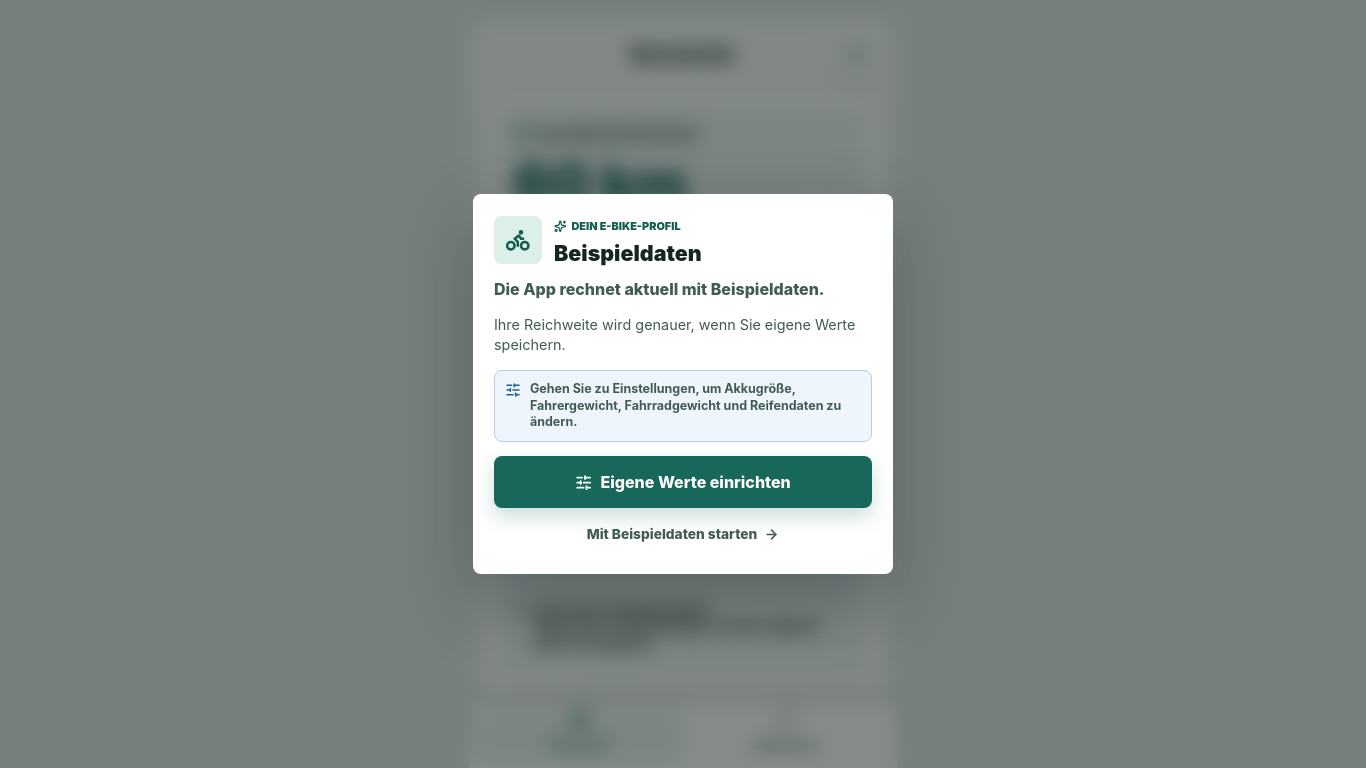
Test case: App › zeigt bei minimaler Unterstuetzung unbegrenzte Akku-Reichweite
Click the button "Mit Beispieldaten starten": [683, 534] box [494,515,872,553]
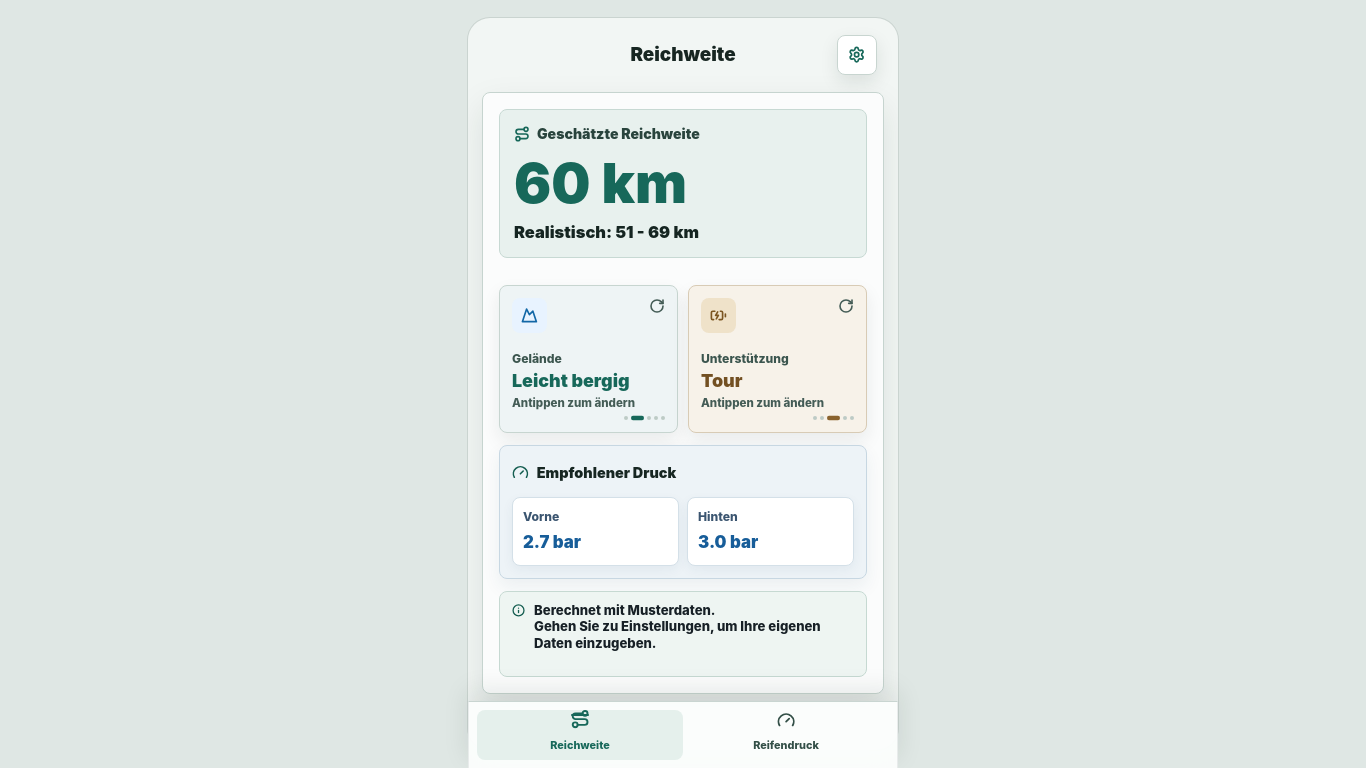
Click the button with aria-label "Unterstützung: Tour": [778, 359] box [688,285,867,433]
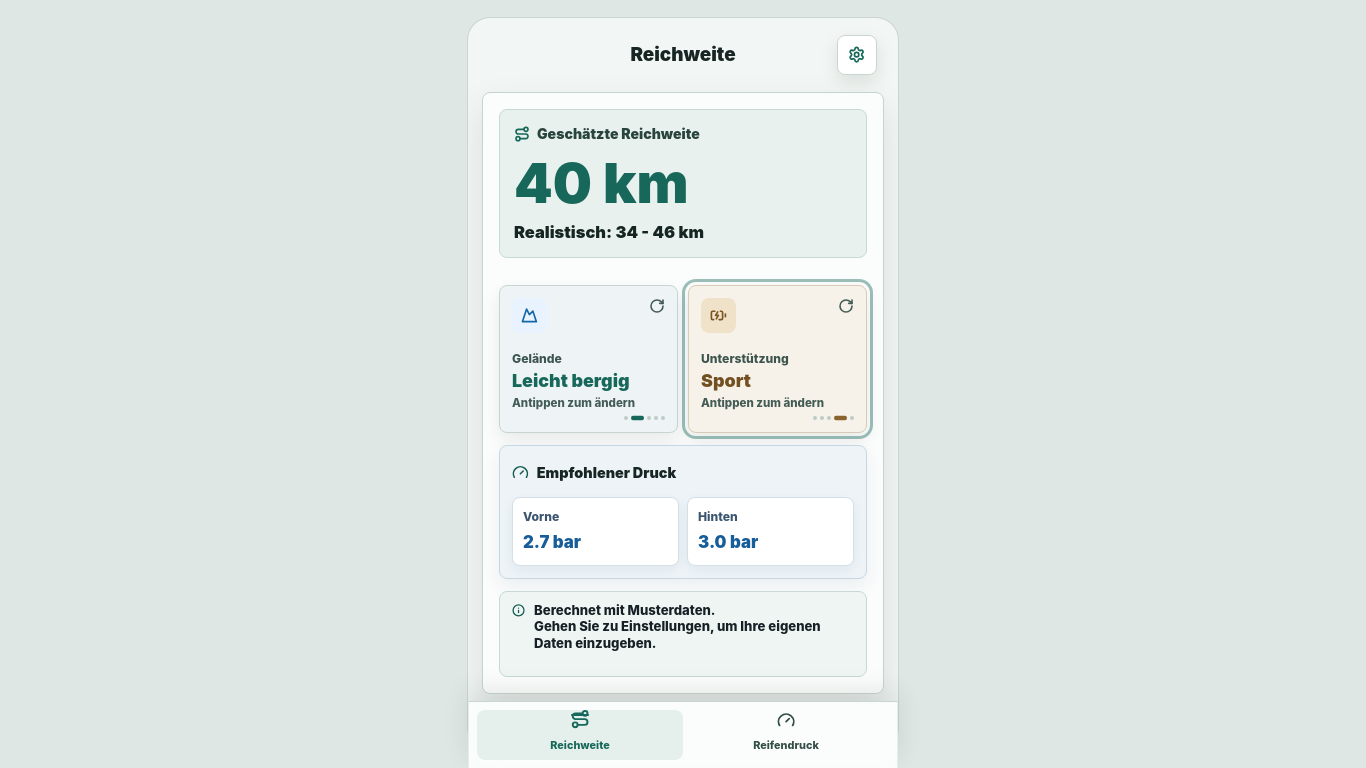
Click the button named "Unterstützung: Tour": [778, 359] box [688,285,867,433]
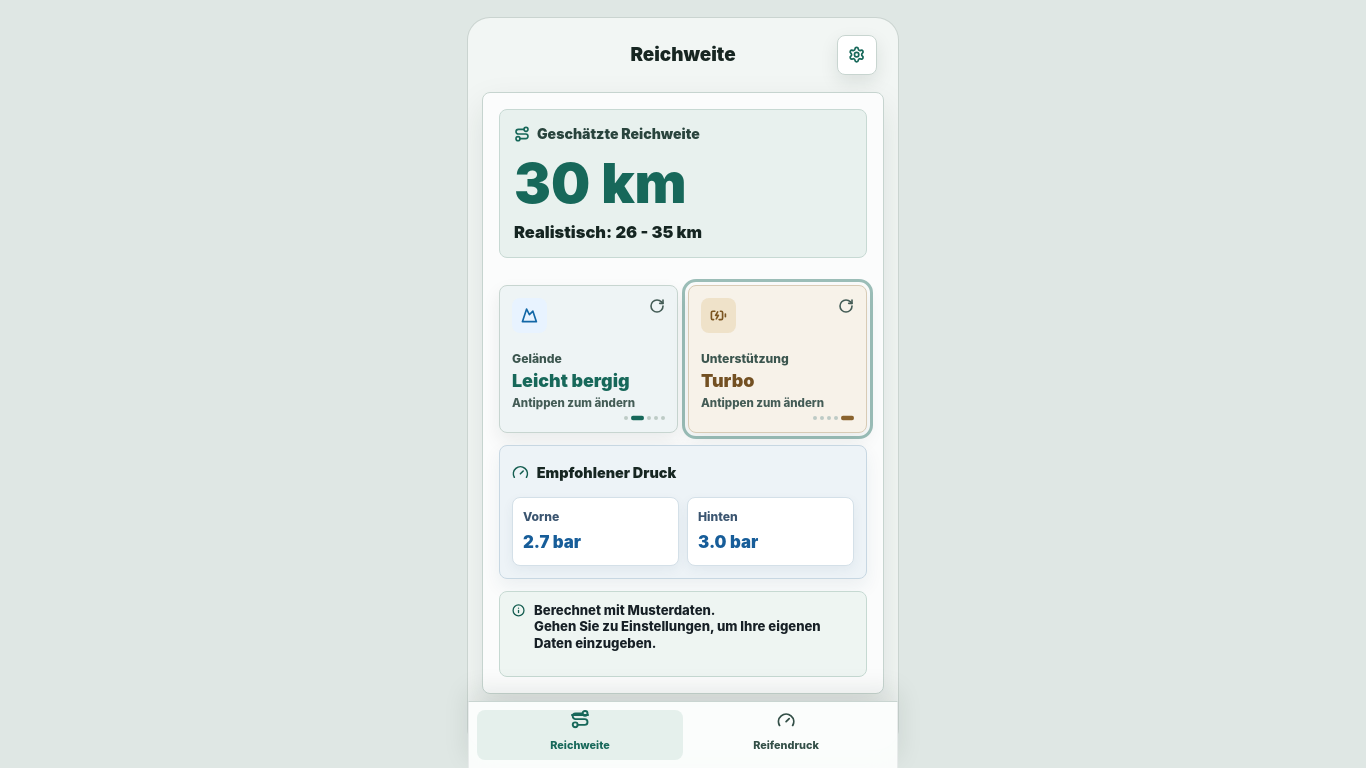
Click the button named "Unterstützung: Tour": [778, 359] box [688,285,867,433]
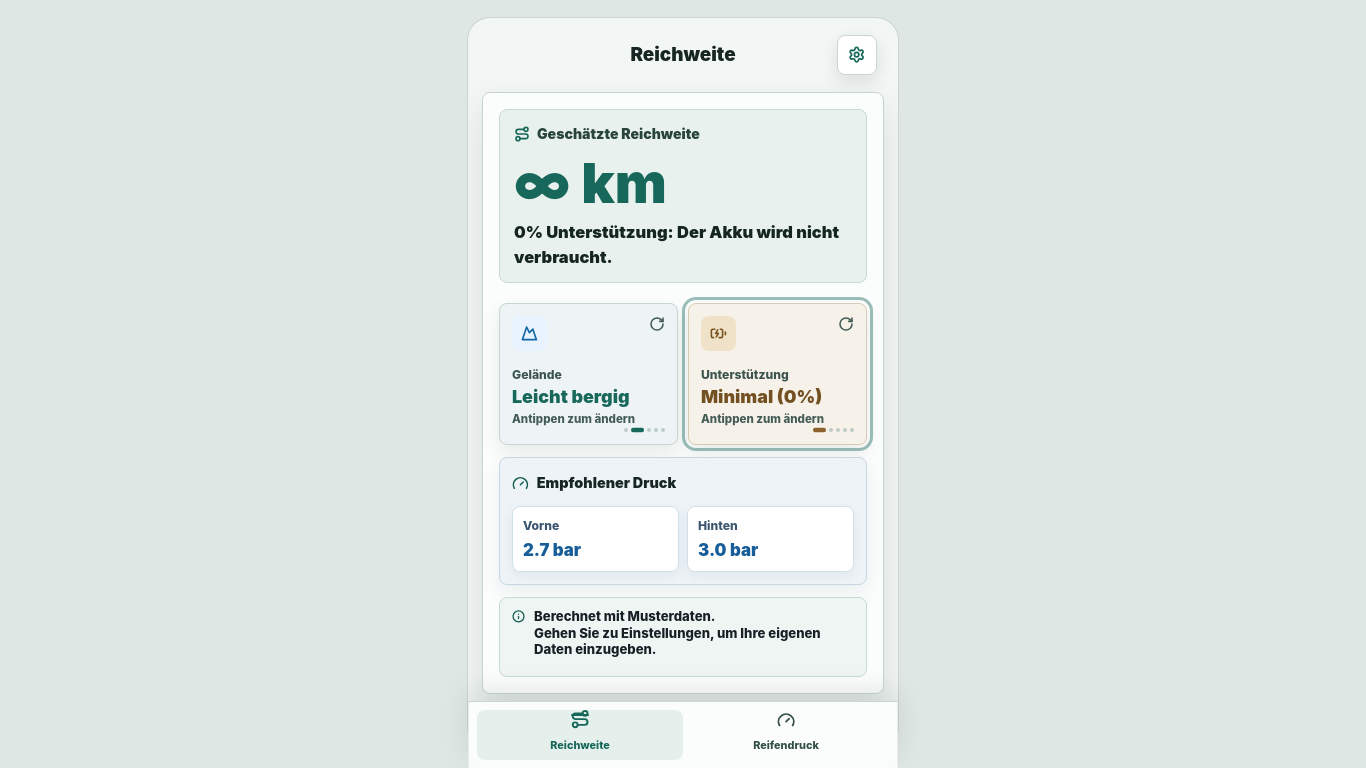
Now the text named "Unbegrenzte Akku-Reichweite" is shown, box [514,150,667,216]
Now the text "0% Unterstützung: Der Akku wird nicht verbraucht." is shown, box [514,220,852,270]
